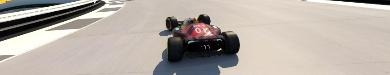Car: (164, 13, 240, 61)
Solid White and black: (0, 0, 104, 47)
